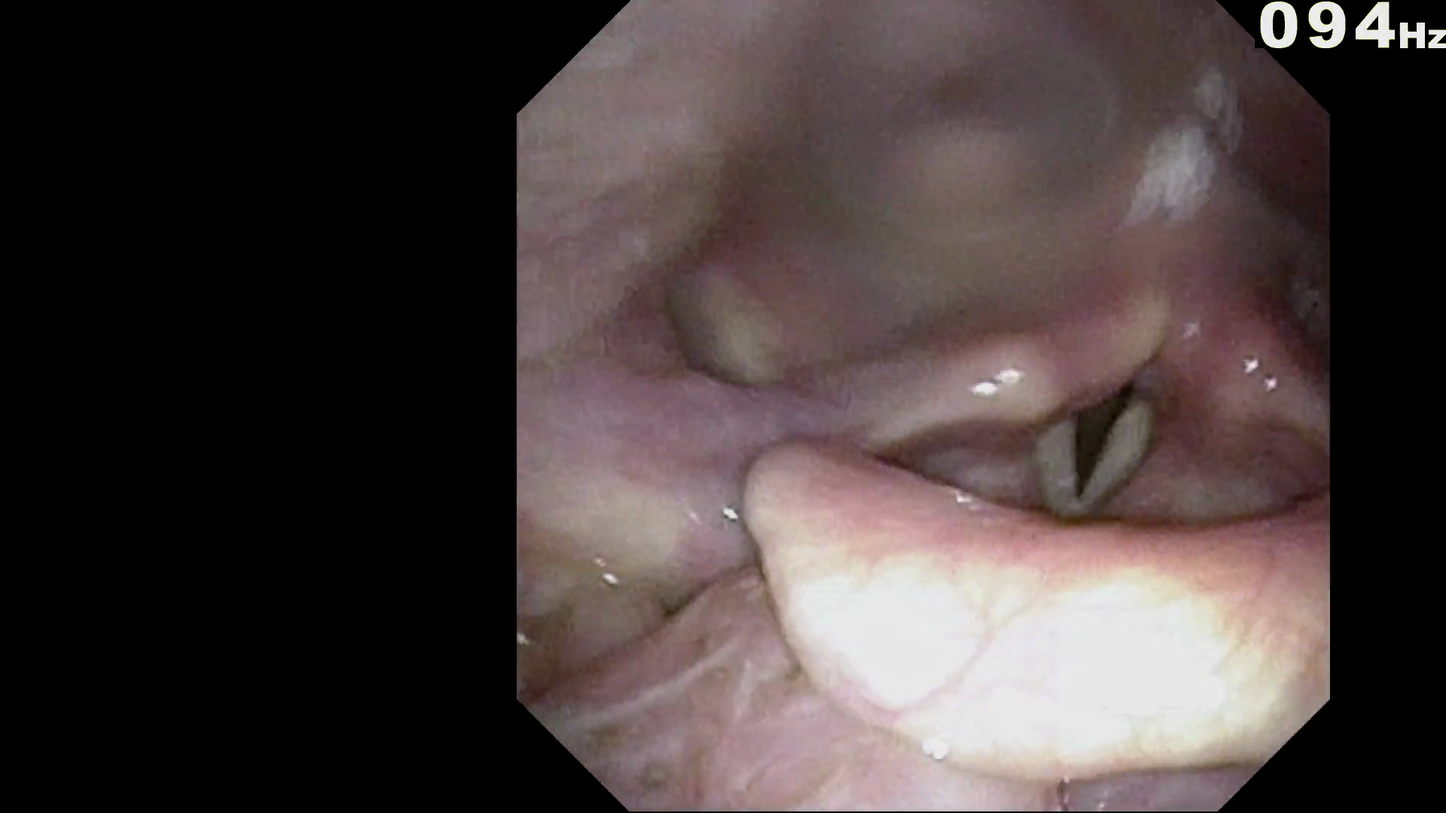epiglottis: (785, 461, 1308, 686)
trachea: (1049, 378, 1171, 486)
